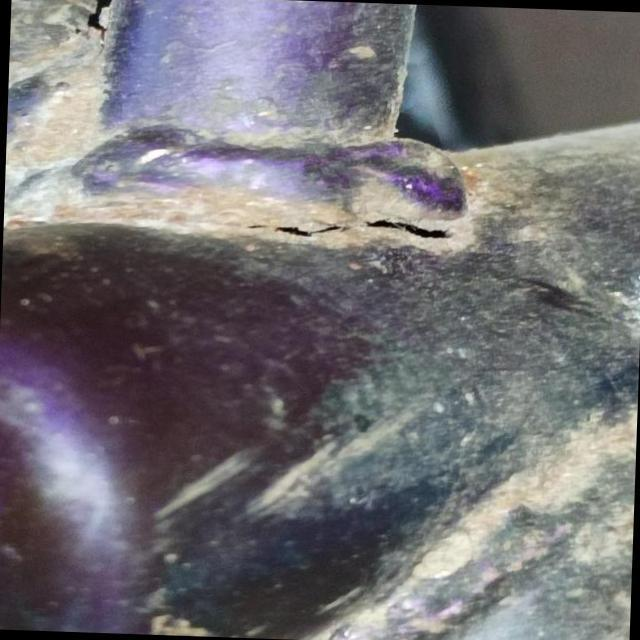defect: (242, 212, 462, 240)
